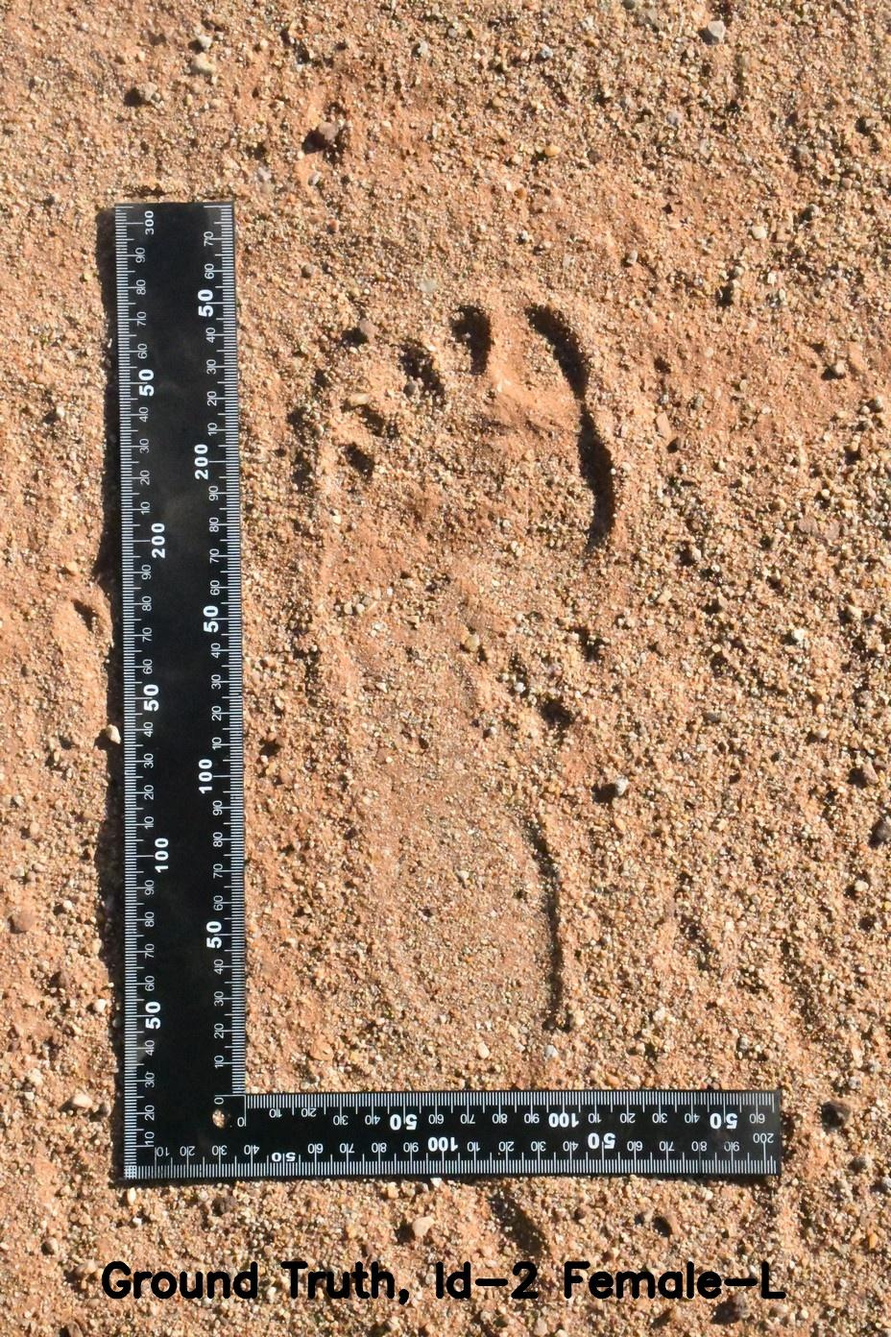human_footprint: (256, 228, 717, 1085)
